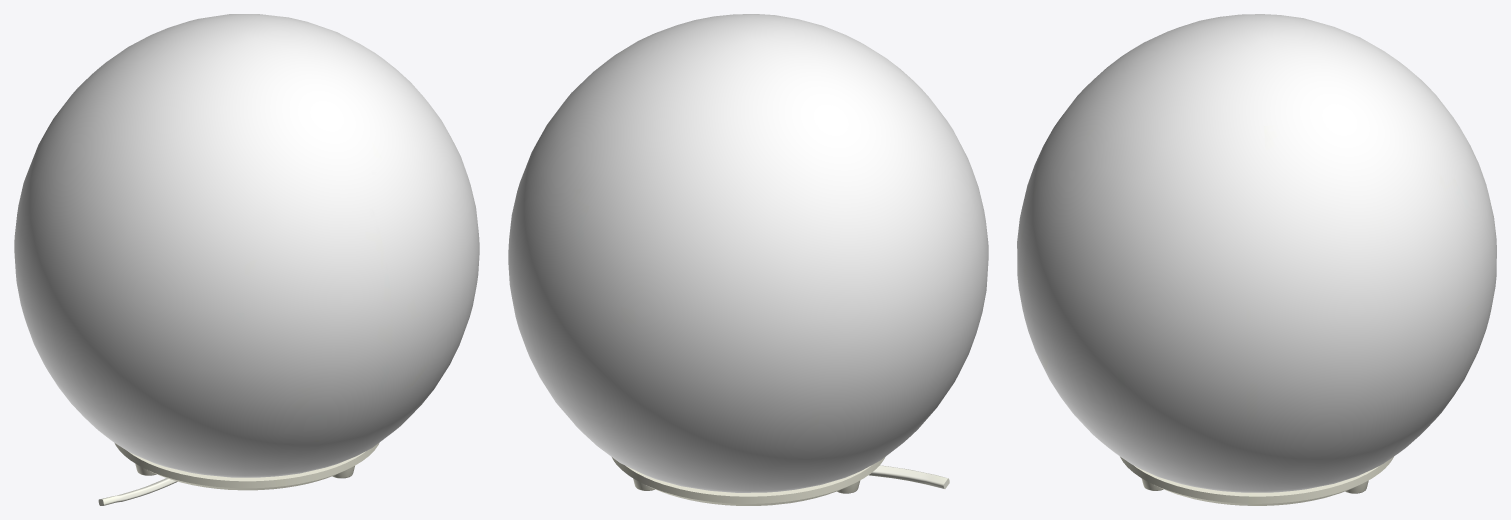
Rendered from desk-lamp.glb.
3 renders of one model, left to right at view 1: azimuth 30°, elevation 25°; view 2: azimuth 150°, elevation 25°; view 3: azimuth 270°, elevation 25°, orthographic. The views are drawn at different scales.
Visible parts, largest first — view 1: model_PQPM1000; view 2: model_PQPM1000; view 3: model_PQPM1000.
Part boxes in pixels (<box>): model_PQPM1000: <box>14,14,479,505</box>; model_PQPM1000: <box>508,14,988,505</box>; model_PQPM1000: <box>1017,14,1496,505</box>.
Bounding box in the file's own units: 0.24 × 0.2365 × 0.2398.
1 material, 1 textured.
